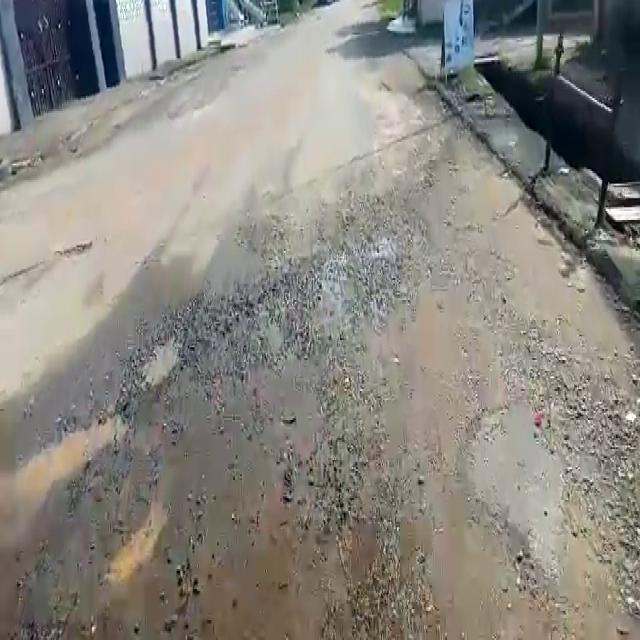Pothole: (143, 333, 183, 388)
